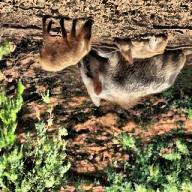boar: (78, 45, 186, 109), (38, 17, 94, 73), (112, 33, 170, 64)
